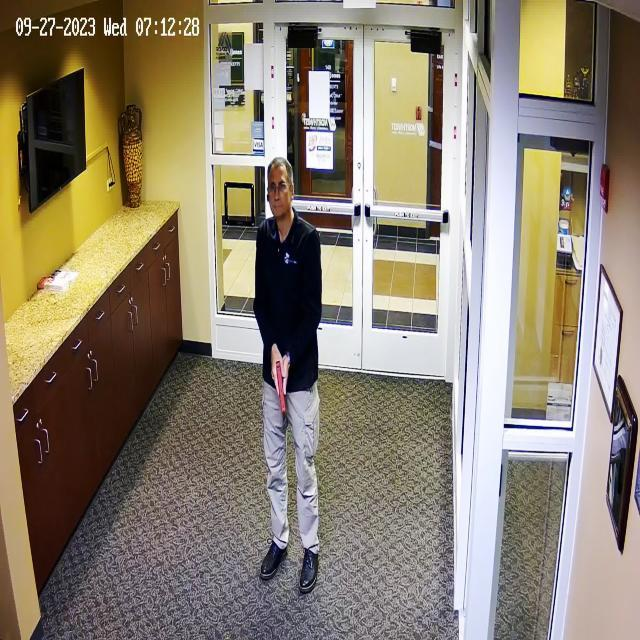Gun: (268, 355, 298, 420)
